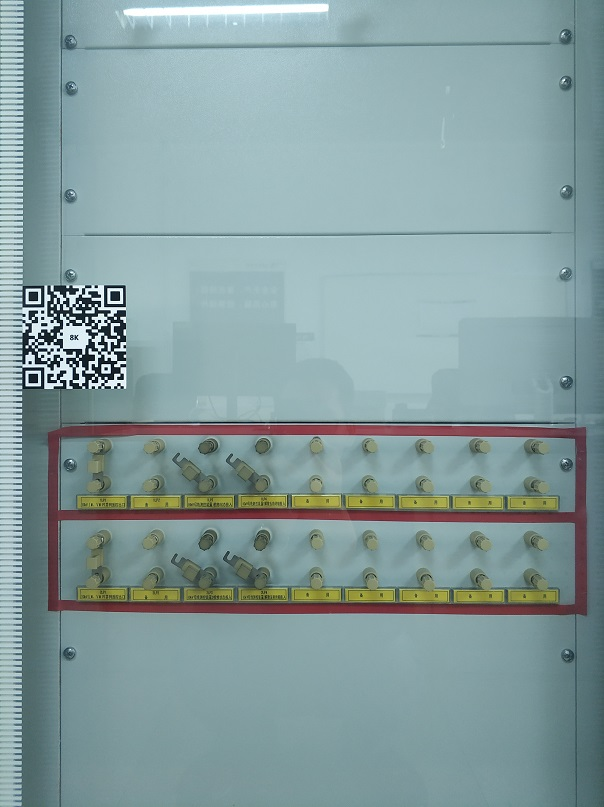ybempty: (520, 526, 554, 590), (302, 437, 332, 492), (140, 528, 166, 588)
ybopen: (219, 526, 276, 586), (172, 436, 224, 491)
